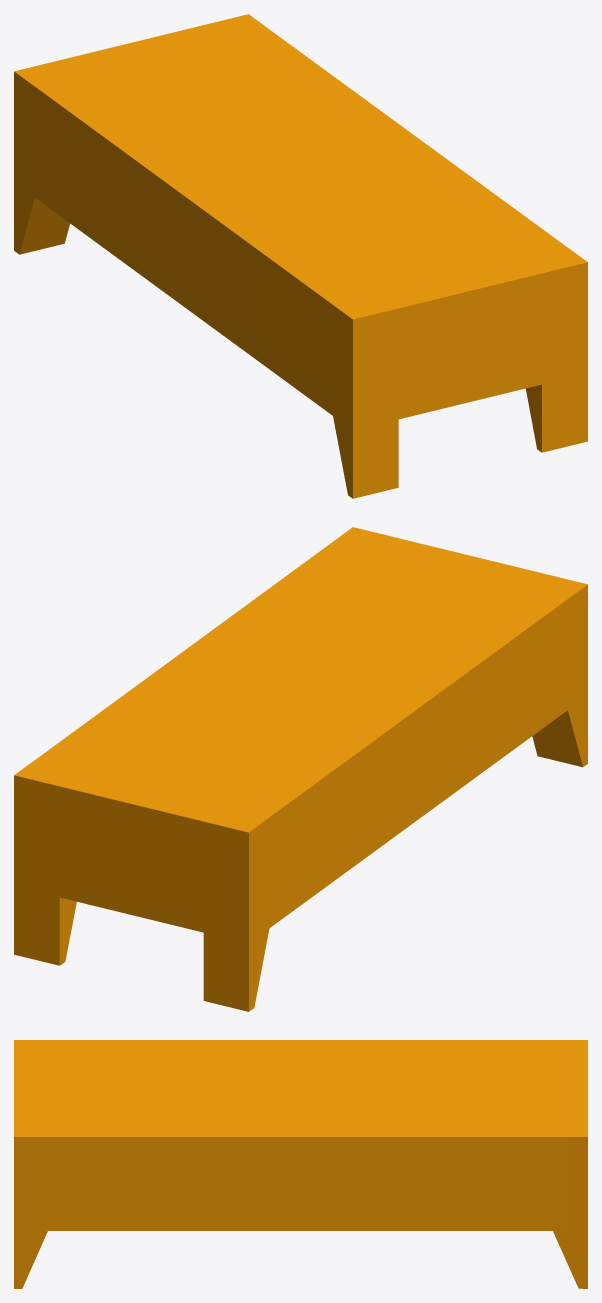
The model's file is spreader.glb.
The picture shows the model from 3 angles, top to bottom: view 1: azimuth 30°, elevation 25°; view 2: azimuth 150°, elevation 25°; view 3: azimuth 270°, elevation 25°; orthographic projection. The views are drawn at different scales.
Visible parts, largest first — view 1: mesh3ds in; view 2: mesh3ds in; view 3: mesh3ds in.
Boxes of the visible parts, x1,y1,x2,y2 form: mesh3ds in: (14, 14, 587, 498); mesh3ds in: (14, 527, 587, 1011); mesh3ds in: (14, 1040, 587, 1288).
Size of the model in its own units: 2.43 by 1.77 by 6.06.
1 material, 1 textured.
